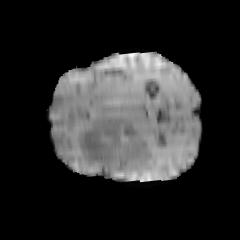glioma: (78, 117, 151, 172)
